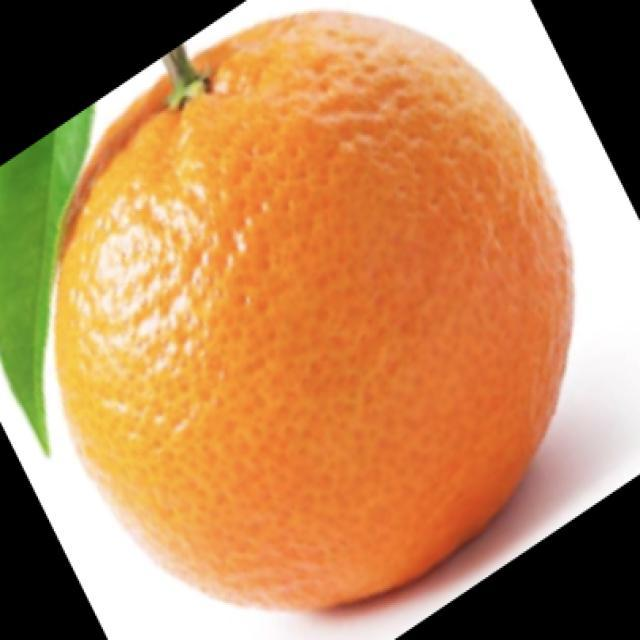Orange: (47, 8, 575, 613)
